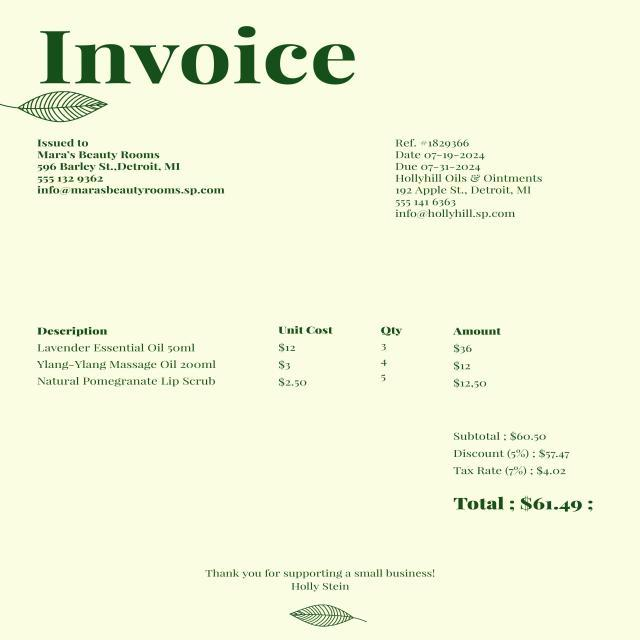ROI: (30, 319, 510, 398), (34, 21, 361, 89), (447, 424, 605, 518), (390, 131, 548, 223), (33, 135, 230, 198), (198, 562, 444, 595)
